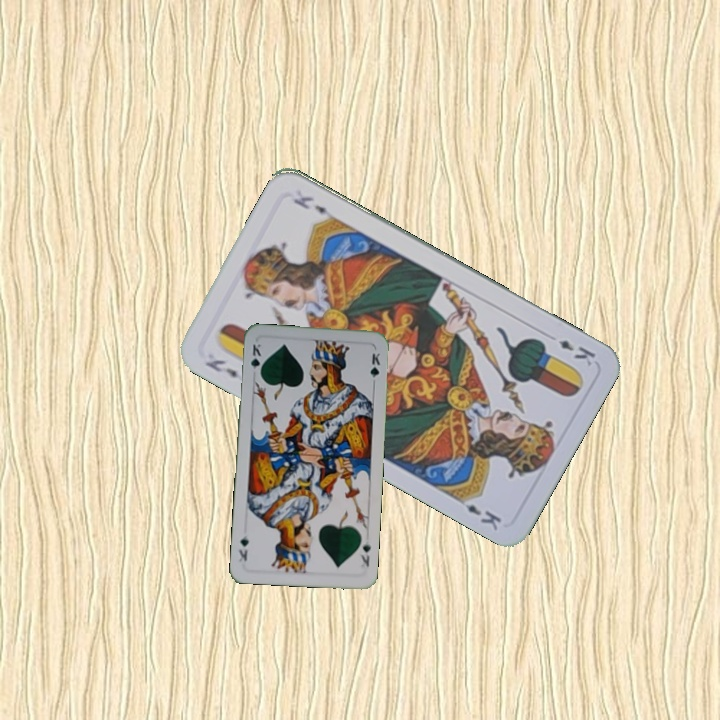EK: (543, 330, 598, 369), (201, 355, 251, 387)
GK: (246, 340, 263, 379), (356, 533, 373, 569)
